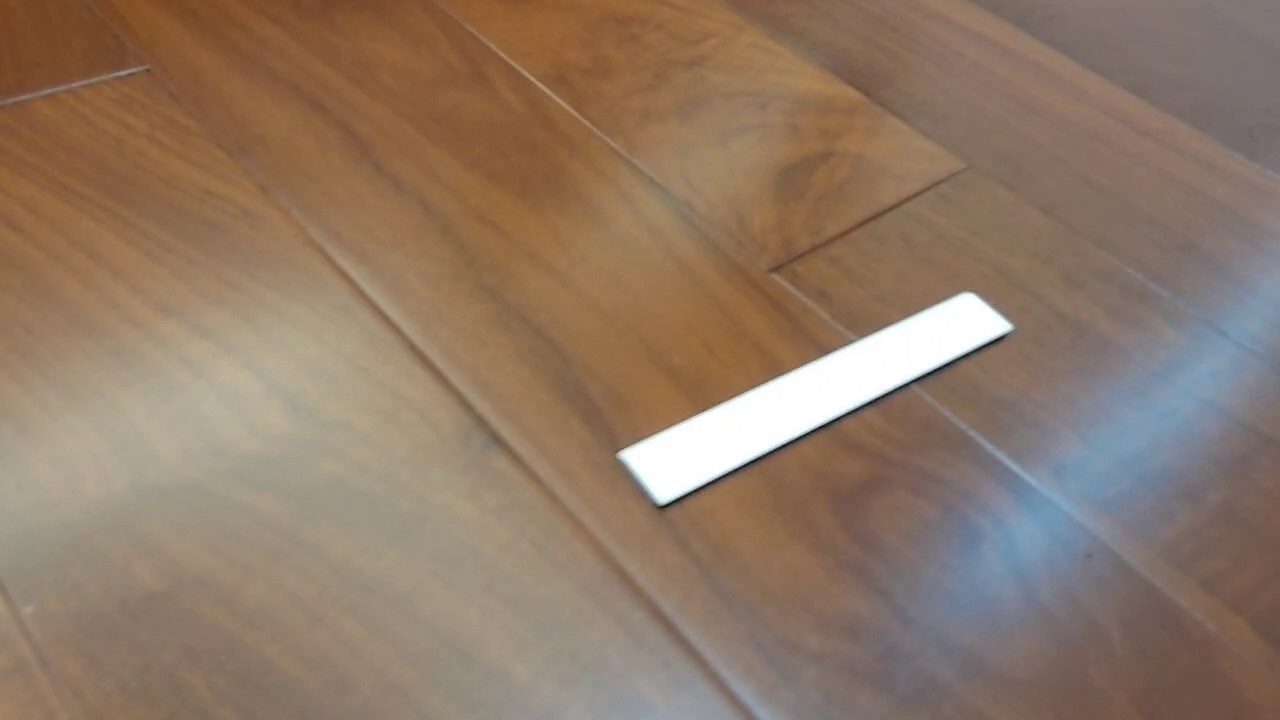ruler: (611, 288, 1018, 512)
